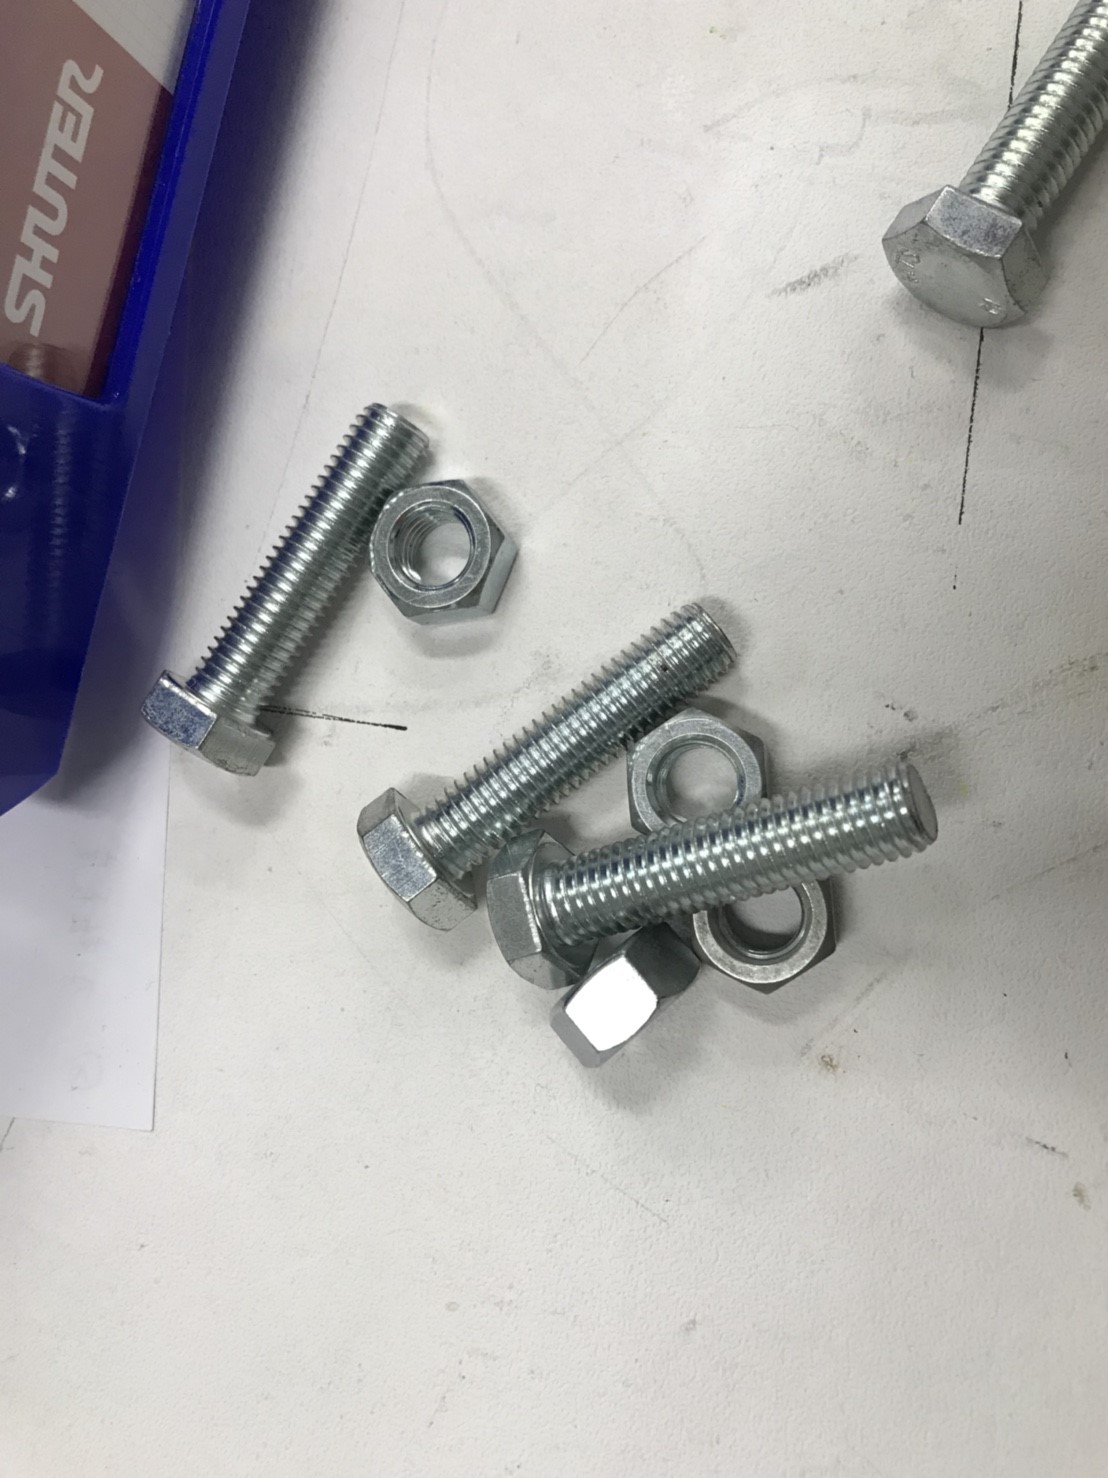nut: (619, 695, 787, 871), (681, 850, 855, 1004), (362, 485, 527, 647), (544, 929, 706, 1085)
screw: (334, 604, 755, 928), (455, 756, 953, 999), (152, 397, 452, 793)
